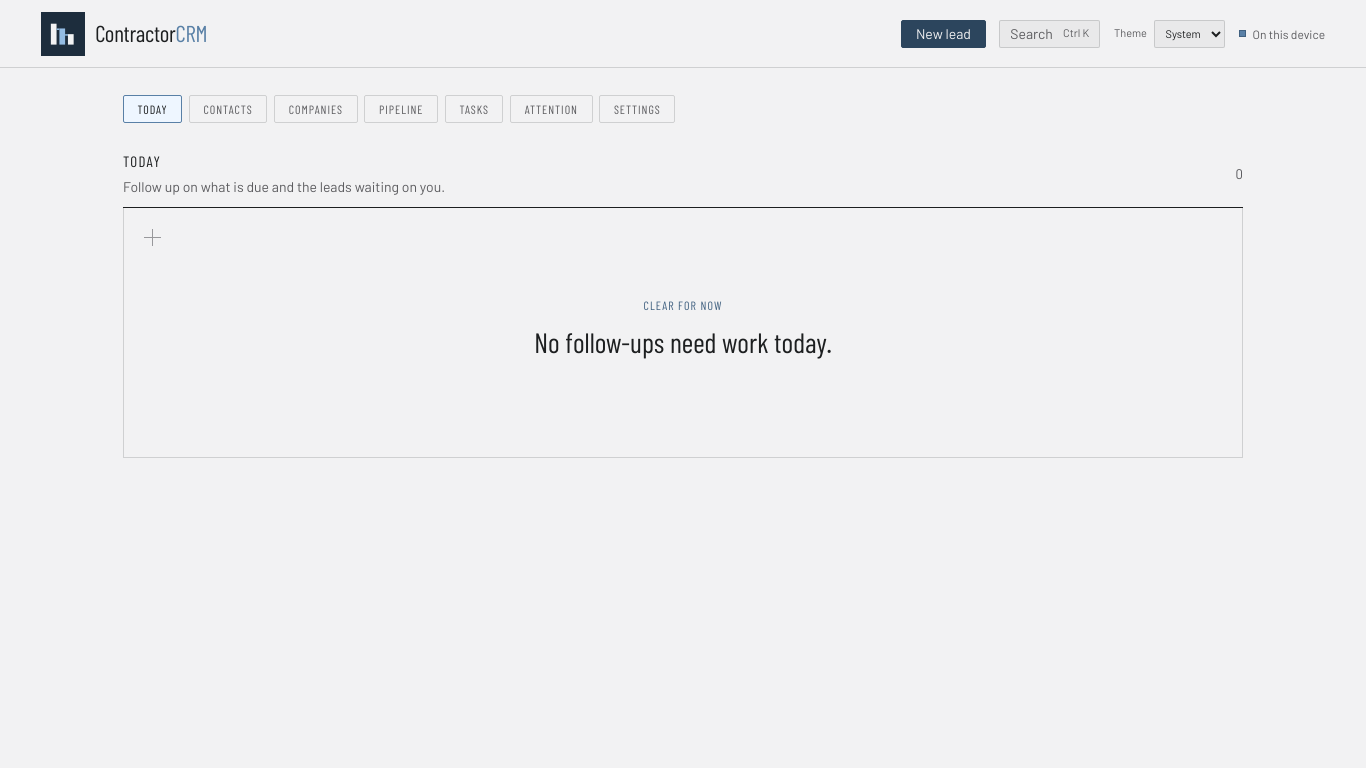
Scenario: pipeline board › shows per-column count and formatted total, and a quiet hint for empty stages
The image size is (1366, 768).
Click the button "Pipeline".
click(401, 109)  # box [364, 95, 438, 123]
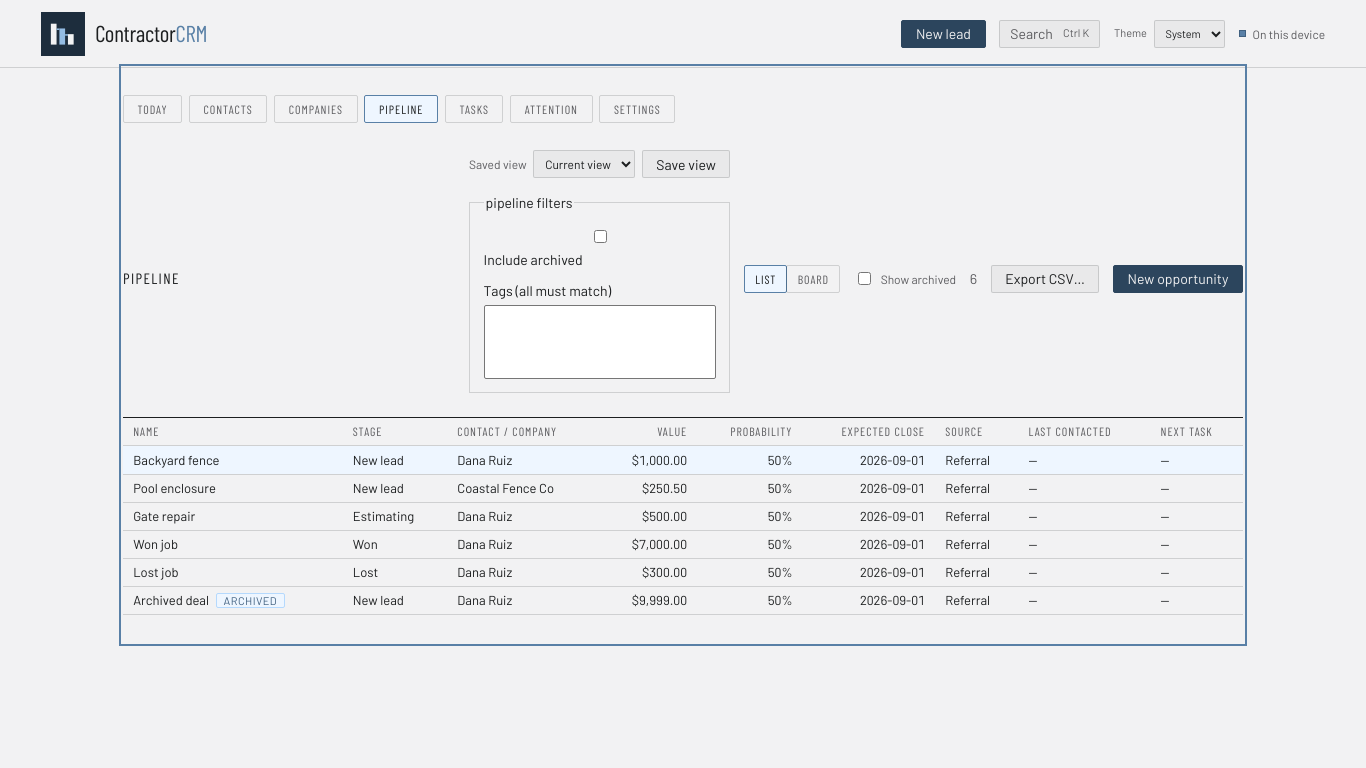
Click the button "Board".
click(813, 278)  # box [786, 264, 840, 292]
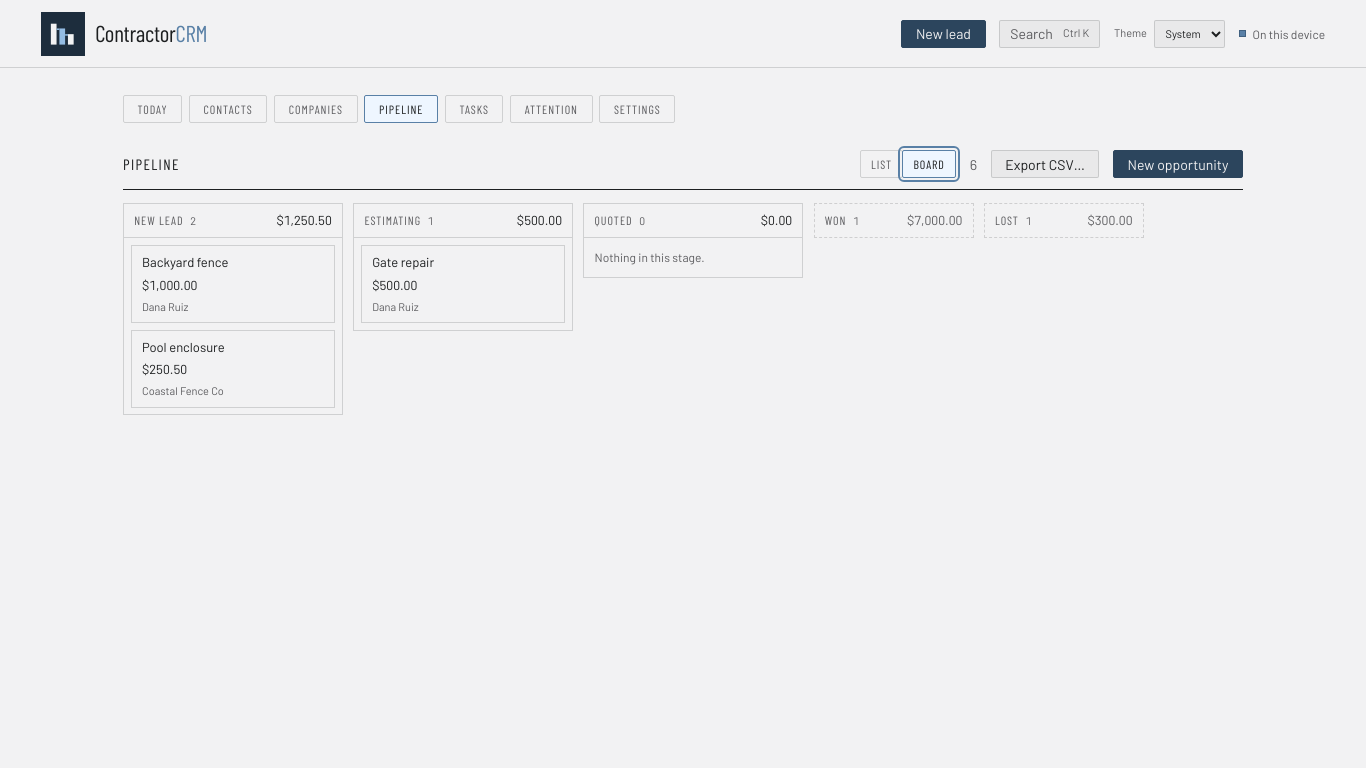
expect the text "2" is shown: met, box [190, 213, 196, 230]
expect the text "0" is shown: met, box [639, 213, 645, 230]
expect the text "$1,250.50" is shown: met, box [276, 211, 332, 230]
